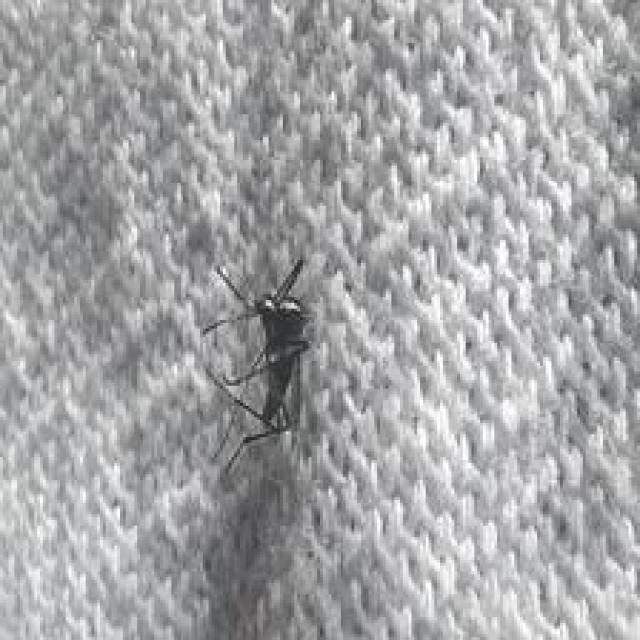Aedes albopictus: (200, 257, 317, 474)
